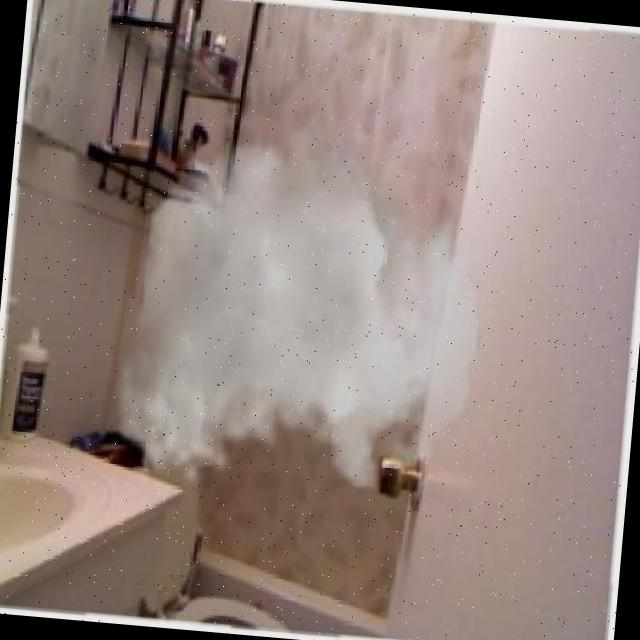Smoke: (102, 158, 506, 496)
